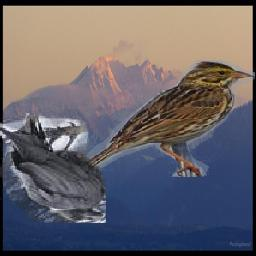Crow: (0, 113, 106, 223)
Sparrow: (75, 59, 255, 178)
